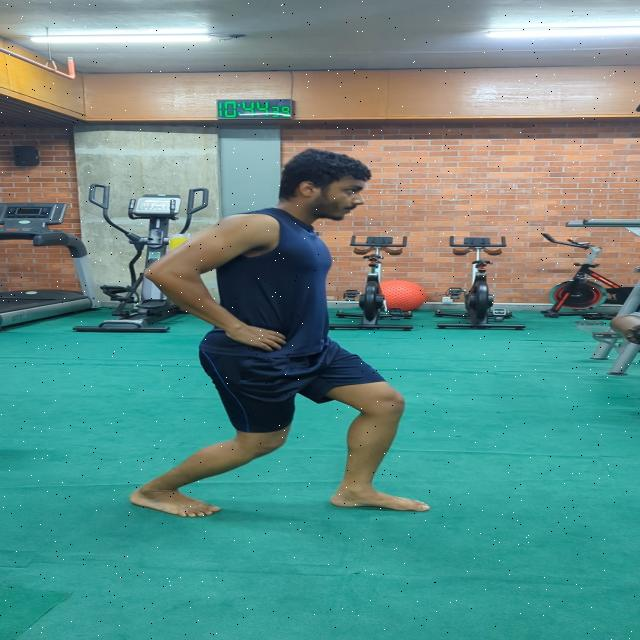Normal_Lunges: (125, 144, 432, 529)
